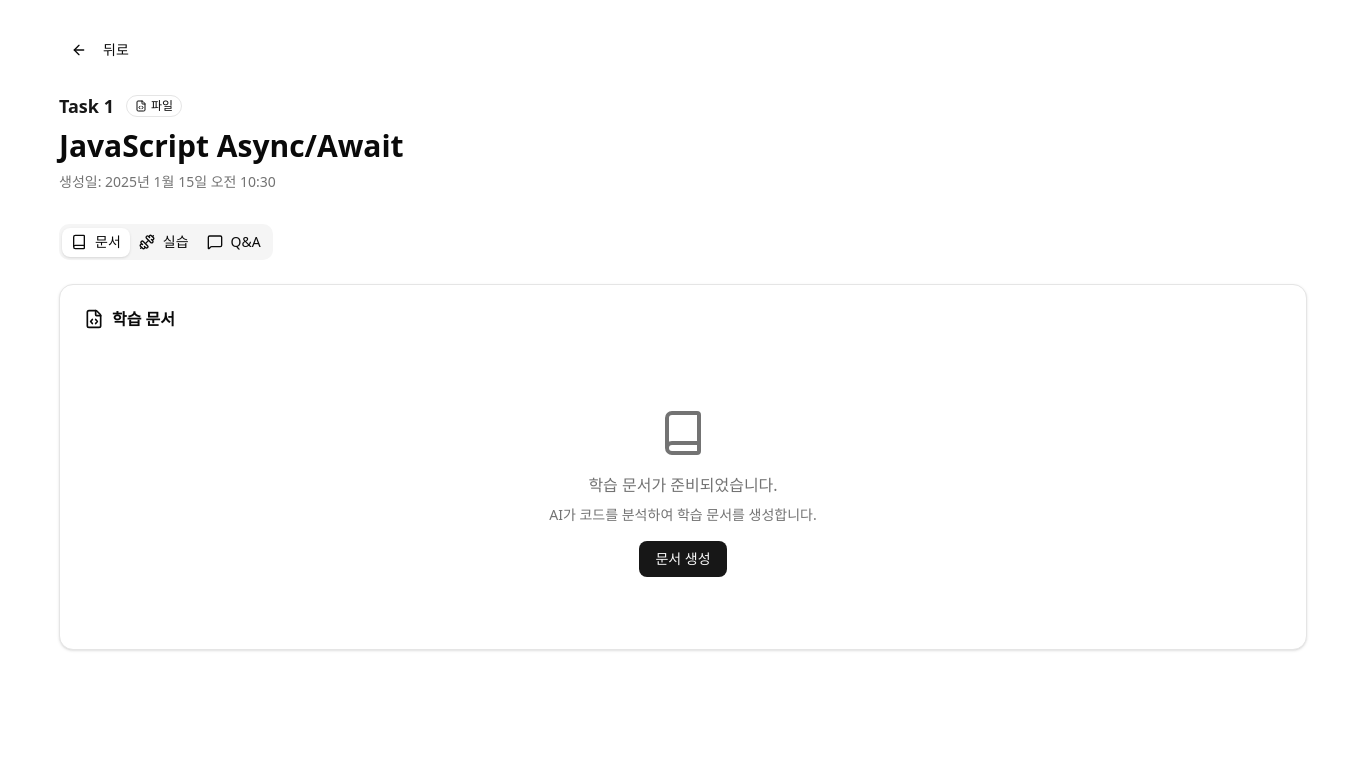
TaskDetail › tabs › switches to Q&A tab when clicked
The width and height of the screenshot is (1366, 768).
Click the tab "Q&A" at coordinates (234, 242), box [198,228,270,256]
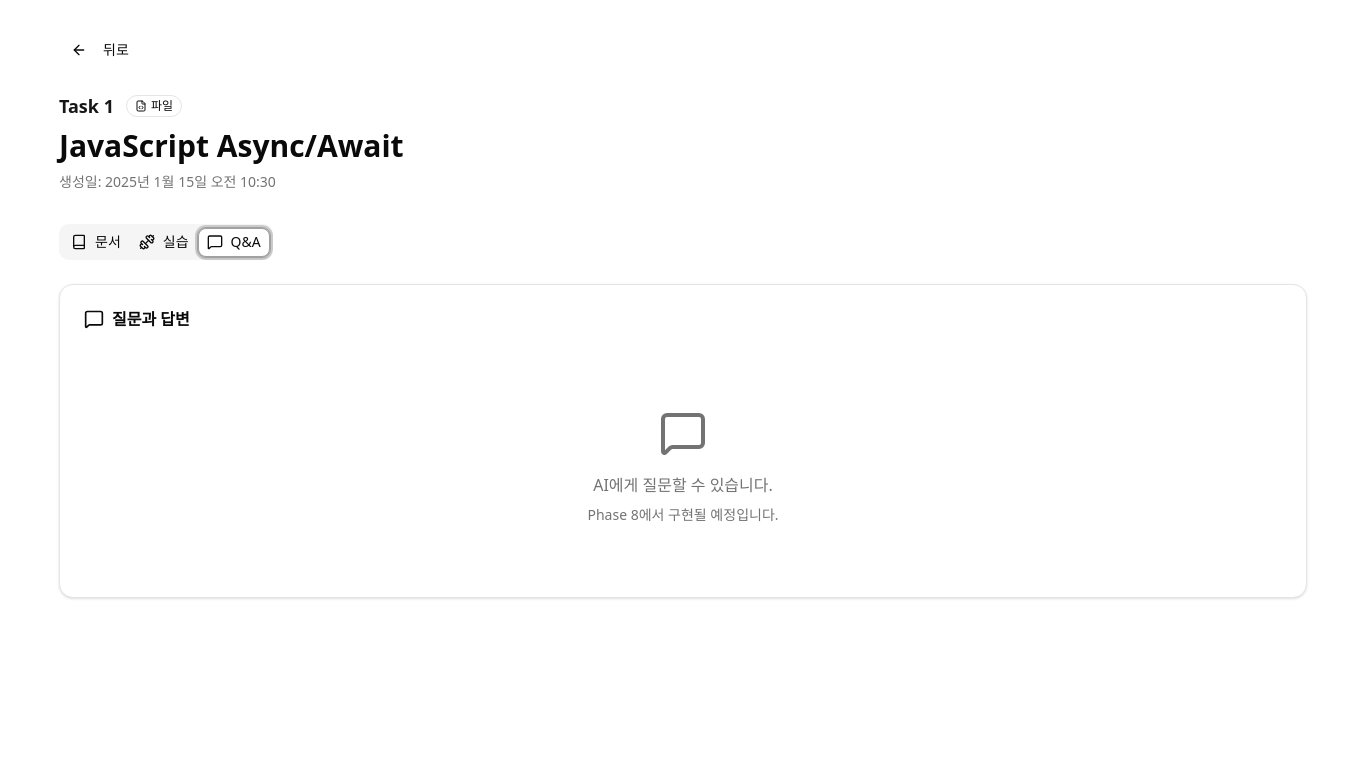
Result: the text "질문과 답변" is shown at [84,308,190,330]
